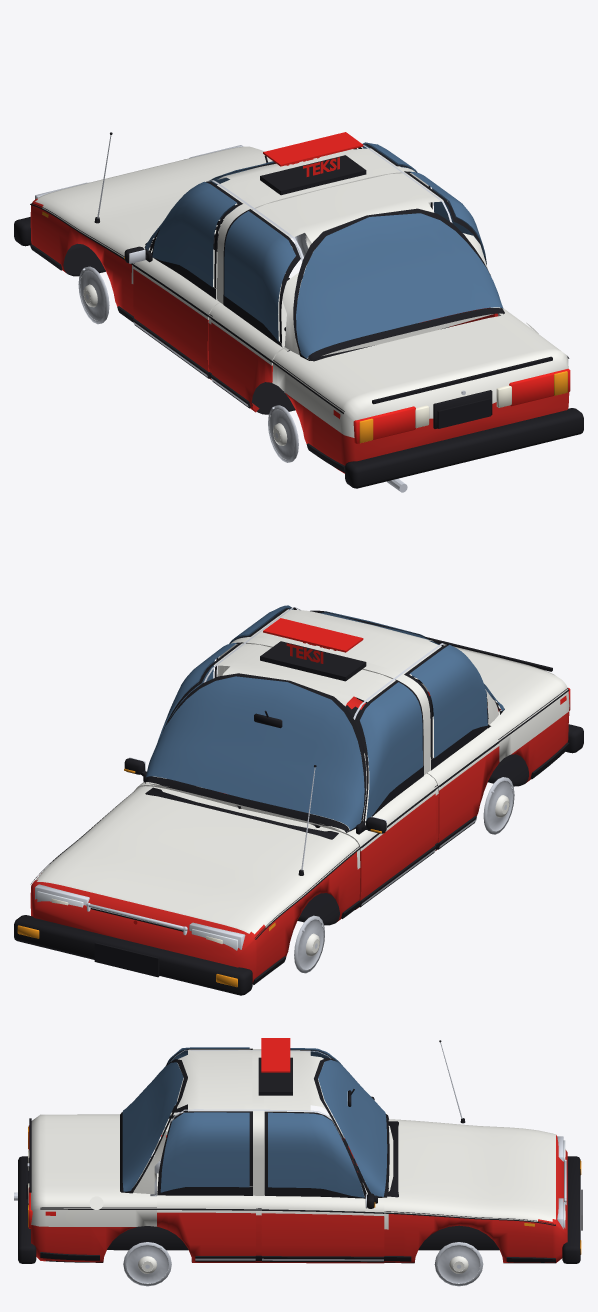
File: veh_teksi.fbx
3 views of the same model, one above another, from view 1: azimuth 30°, elevation 25°; view 2: azimuth 150°, elevation 25°; view 3: azimuth 270°, elevation 25° (orthographic). The views are drawn at different scales.
Visible parts, largest first — view 1: Body, Glass, Detail, Door_FL, Door_RL, Door_RL_Glass, Door_FL_Glass, RoofSign, BrakeLights, Rim_FL, Rim_RL, Door_RR_Glass (+1 smaller); view 2: Body, Glass, Detail, Door_FL, Door_RL, Door_FL_Glass, Door_RL_Glass, RoofSign, Rim_FL, Rim_RL, Door_FR_Glass, HeadLights; view 3: Body, Door_FR, Glass, Detail, Door_RR, Door_RR_Glass, Door_FR_Glass, RoofSign, Rim_RR, Rim_FR.
Boxes of the visible parts, box(x1,y1,x2,y2) form: Body: box(30, 146, 569, 473); Glass: box(145, 161, 503, 358); Detail: box(14, 145, 583, 492); Door_FL: box(133, 181, 242, 379); Door_RL: box(211, 209, 300, 412); Door_RL_Glass: box(224, 211, 295, 341); Door_FL_Glass: box(152, 181, 236, 287); RoofSign: box(260, 132, 366, 195); BrakeLights: box(353, 368, 570, 443); Rim_FL: box(78, 266, 109, 324); Rim_RL: box(268, 405, 298, 462); Door_RR_Glass: box(410, 171, 486, 264); Body: box(30, 609, 569, 982); Glass: box(145, 611, 504, 830); Detail: box(14, 607, 583, 995); Door_FL: box(310, 680, 436, 909); Door_RL: box(404, 644, 499, 850); Door_FL_Glass: box(360, 682, 422, 820); Door_RL_Glass: box(410, 644, 487, 758); RoofSign: box(260, 618, 366, 681); Rim_FL: box(294, 915, 324, 973); Rim_RL: box(483, 777, 514, 834); Door_FR_Glass: box(157, 642, 236, 741); HeadLights: box(37, 891, 237, 950); Body: box(31, 1049, 567, 1263); Door_FR: box(261, 1111, 384, 1263); Glass: box(122, 1060, 387, 1196); Detail: box(14, 1050, 582, 1263); Door_RR: box(157, 1111, 255, 1262); Door_RR_Glass: box(160, 1112, 249, 1192); Door_FR_Glass: box(268, 1112, 364, 1197); RoofSign: box(258, 1038, 292, 1095); Rim_RR: box(123, 1242, 171, 1286); Rim_FR: box(434, 1242, 483, 1286).
Size of what is drawn, in the model's own units: 1.89 by 1.69 by 4.36.
Materials: 1 (1 with a texture image).
